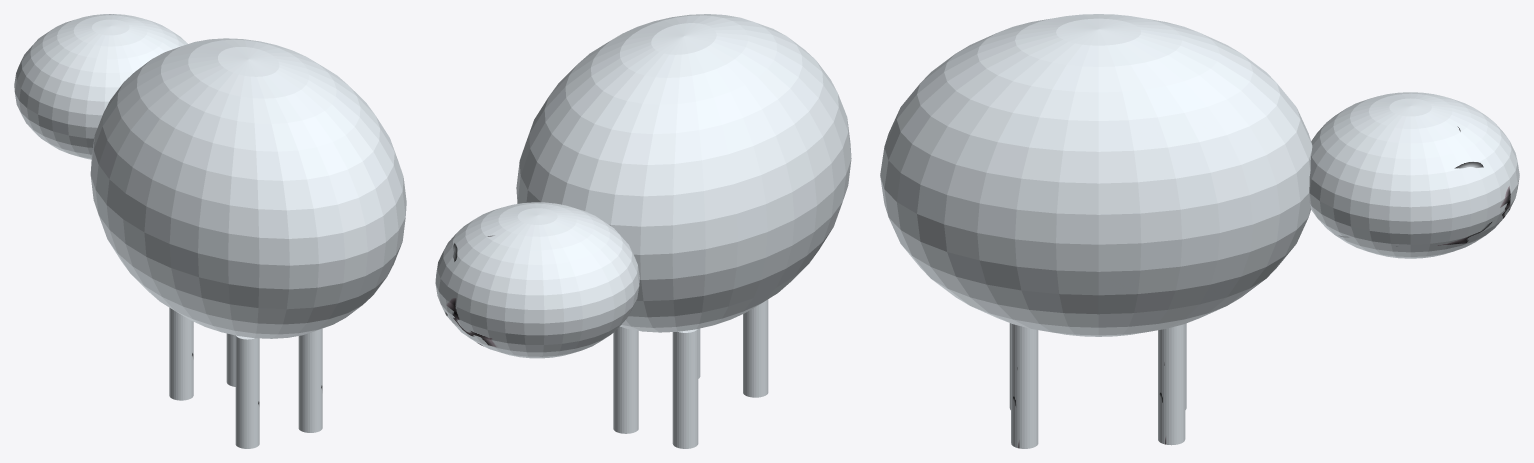
The model's file is sheep.glb.
The picture shows the model from 3 angles, left to right: view 1: azimuth 30°, elevation 25°; view 2: azimuth 150°, elevation 25°; view 3: azimuth 270°, elevation 25°; orthographic projection. The views are drawn at different scales.
Visible parts, largest first — view 1: Leg.001; view 2: Leg.001; view 3: Leg.001.
Part boxes in pixels (box(x1,y1,x2,y2)): Leg.001: box(14, 14, 406, 448); Leg.001: box(435, 14, 851, 448); Leg.001: box(880, 14, 1519, 448).
Bounding box in the file's own units: 2.4 × 3.21 × 4.68.
Materials: 1 (1 with a texture image).
